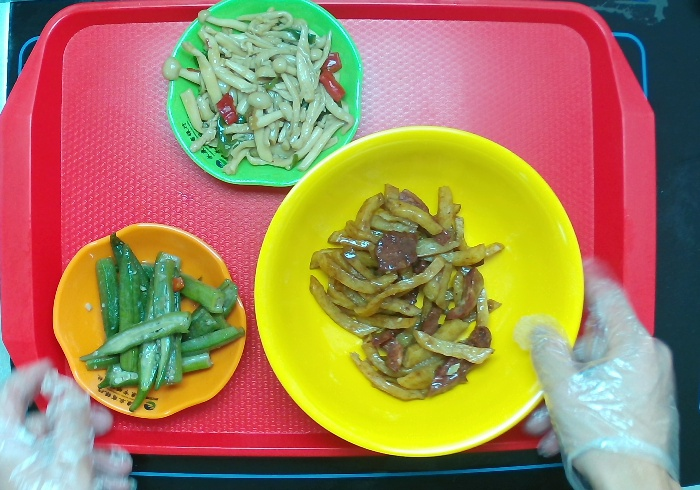YKMZ-Huang_Se_Tang_Wan: (249, 119, 602, 466)
YKMZ-Ju_Se_Ao_Bian_Wan: (47, 221, 248, 422)
YKMZ-Lv_Se_Ao_Bian_Wan: (161, 1, 369, 199)
